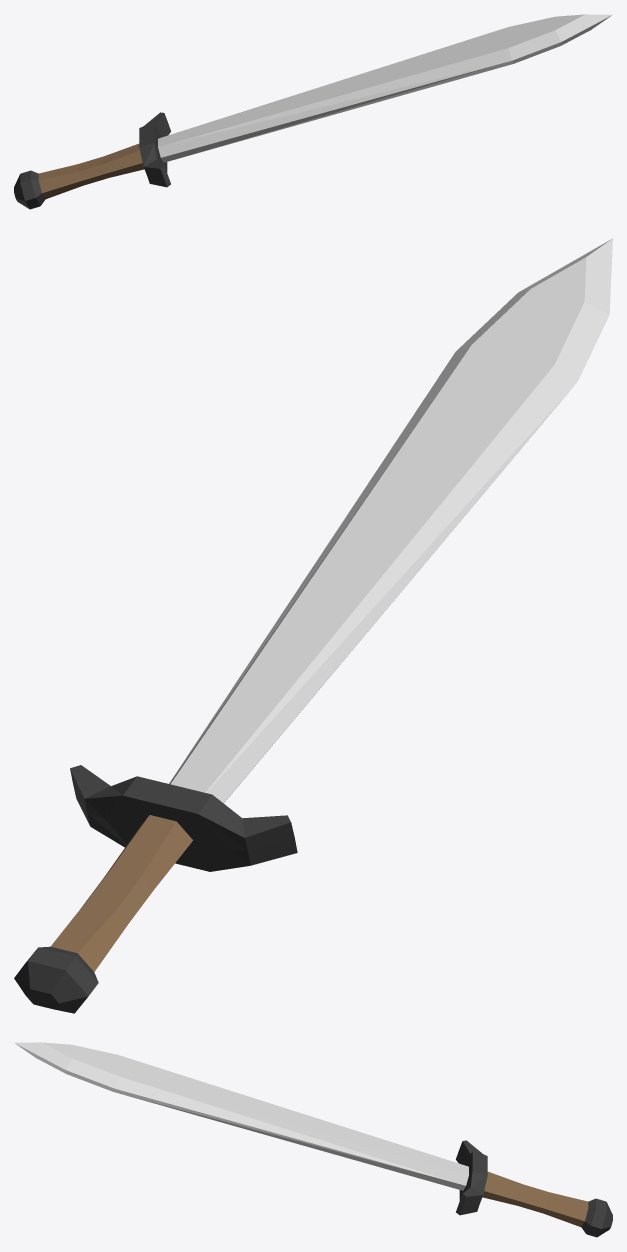
Rendered from Final_Sword.fbx.
3 renders of one model, top to bottom at view 1: azimuth 90°, elevation 25°; view 2: azimuth 150°, elevation 25°; view 3: azimuth 270°, elevation 25°, orthographic. The views are drawn at different scales.
Visible parts, largest first — view 1: pPlane1; view 2: pPlane1; view 3: pPlane1.
Part boxes in pixels (left/top/right/bottom): pPlane1: left=14, top=14, right=612, bottom=209; pPlane1: left=14, top=238, right=612, bottom=1013; pPlane1: left=14, top=1042, right=612, bottom=1237.
Bounding box in the file's own units: 1.57 × 2.46 × 7.03.
